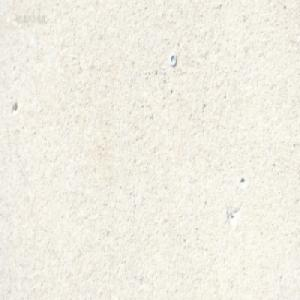Washer: (169, 52, 176, 66)
